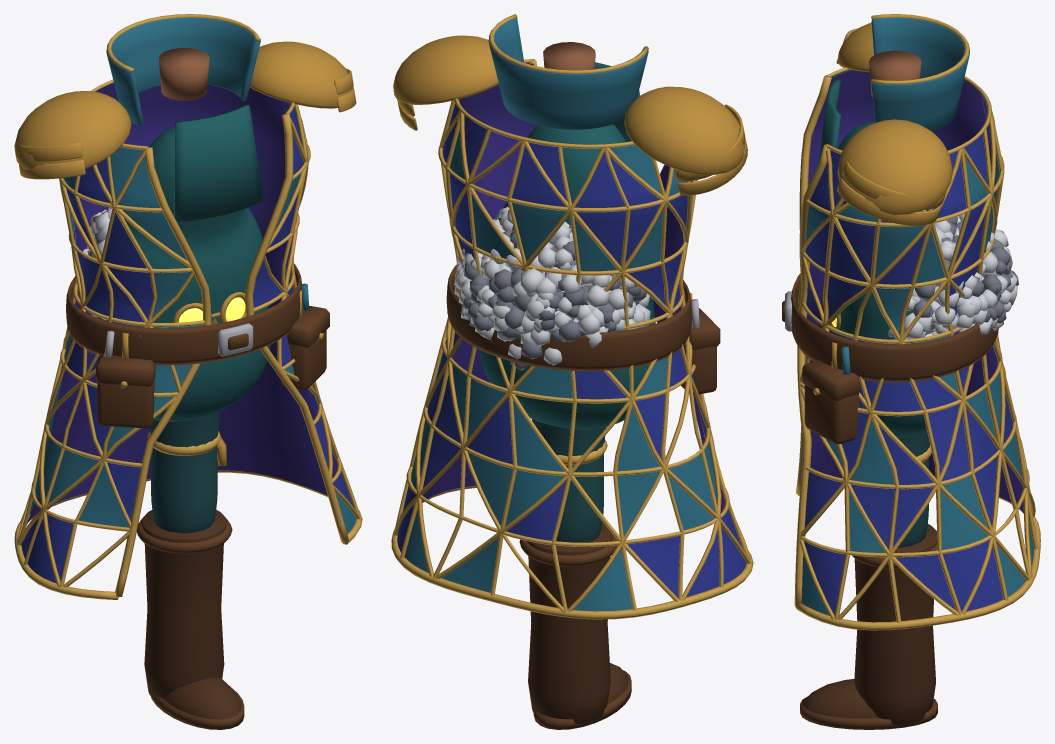
The model's file is emmy.glb.
The picture shows the model from 3 angles, left to right: view 1: azimuth 30°, elevation 25°; view 2: azimuth 150°, elevation 25°; view 3: azimuth 270°, elevation 25°; orthographic projection. The views are drawn at different scales.
Visible parts, largest first — view 1: em_torso, em_leg, em_head, em_sleeve; view 2: em_torso, em_leg, em_head; view 3: em_torso, em_leg, em_head.
Part boxes in pixels (x1,y1,x2,y2): em_torso: [14, 14, 362, 599]; em_leg: [137, 411, 244, 729]; em_head: [75, 207, 246, 324]; em_sleeve: [147, 431, 220, 455]; em_torso: [391, 14, 753, 619]; em_leg: [519, 419, 631, 729]; em_head: [454, 207, 650, 370]; em_torso: [782, 14, 1040, 630]; em_leg: [800, 429, 937, 729]; em_head: [823, 213, 1018, 339].
Size of the model in its own units: 0.7341 by 1.4 by 0.4931.
